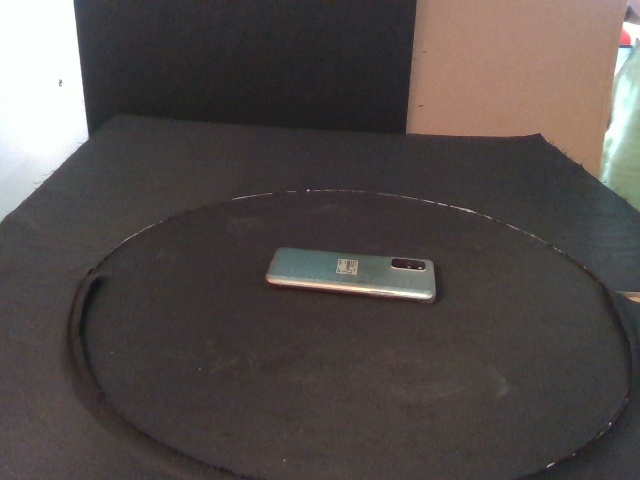phone: (265, 245, 436, 307)
